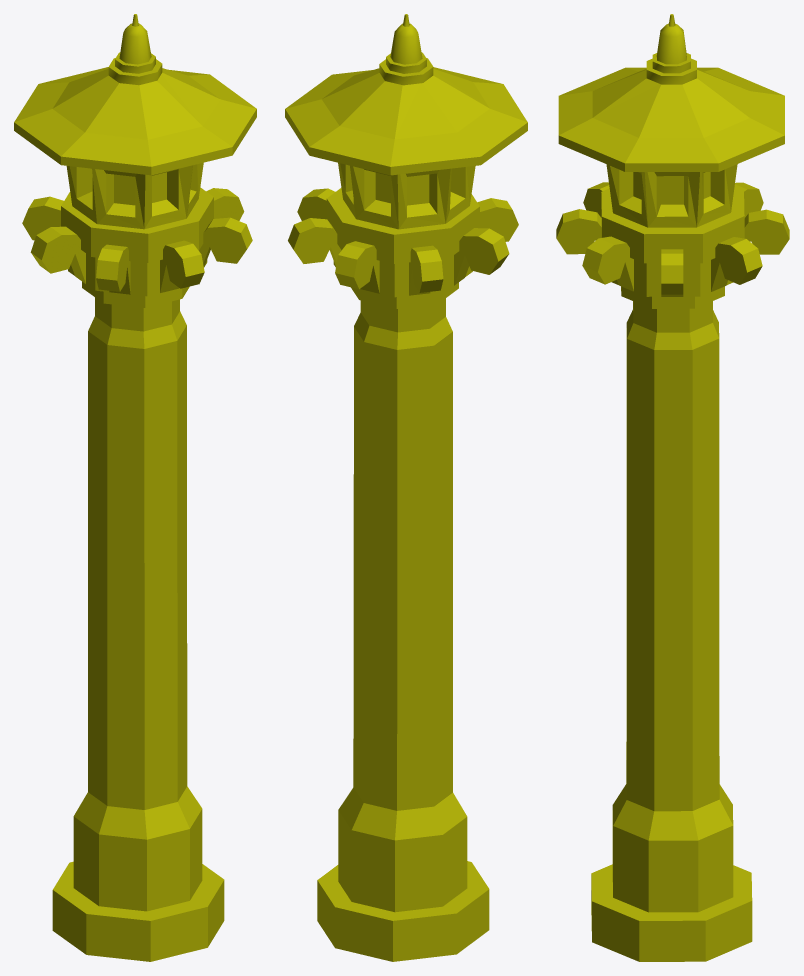
3 views of the same model, side by side, from view 1: azimuth 30°, elevation 25°; view 2: azimuth 150°, elevation 25°; view 3: azimuth 270°, elevation 25° (orthographic).
Parts seen in each view (by area): view 1: Cone20; view 2: Cone20; view 3: Cone20.
Part boxes in pixels (x1,y1,x2,y2): Cone20: [14, 14, 256, 961]; Cone20: [285, 14, 527, 961]; Cone20: [556, 14, 789, 961].
Bounding box in the file's own units: 2.05 × 8.85 × 2.05.
Materials: 1 (1 with a texture image).
